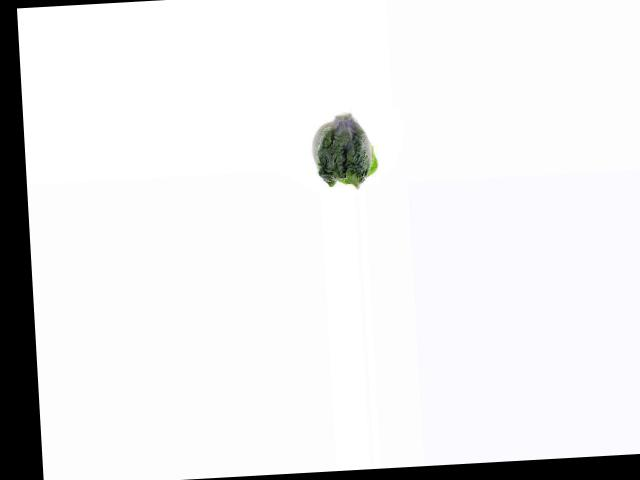lettuce: (308, 112, 382, 189)
